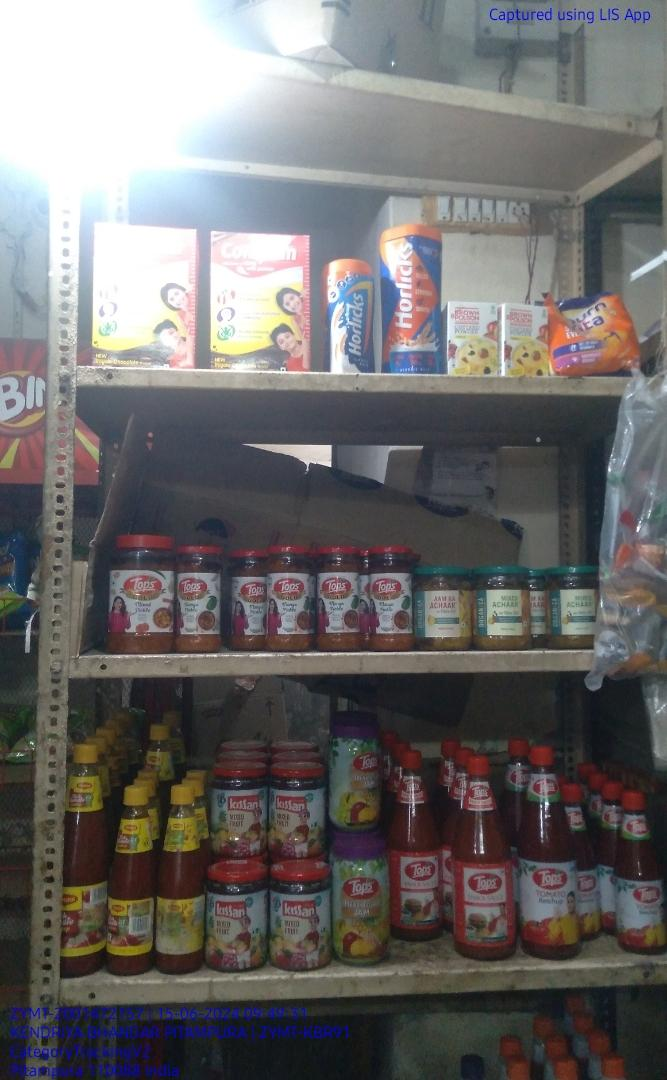COMPLAN_CHOCOLATE_500_GMS_PACK: (210, 230, 315, 371), (91, 225, 194, 367)
HORLICK_CLASSIC_MALT_200_G_JAR: (324, 257, 373, 371)
HORLICK_CLASSIC_MALT_500_G_JAR: (379, 226, 441, 374)
